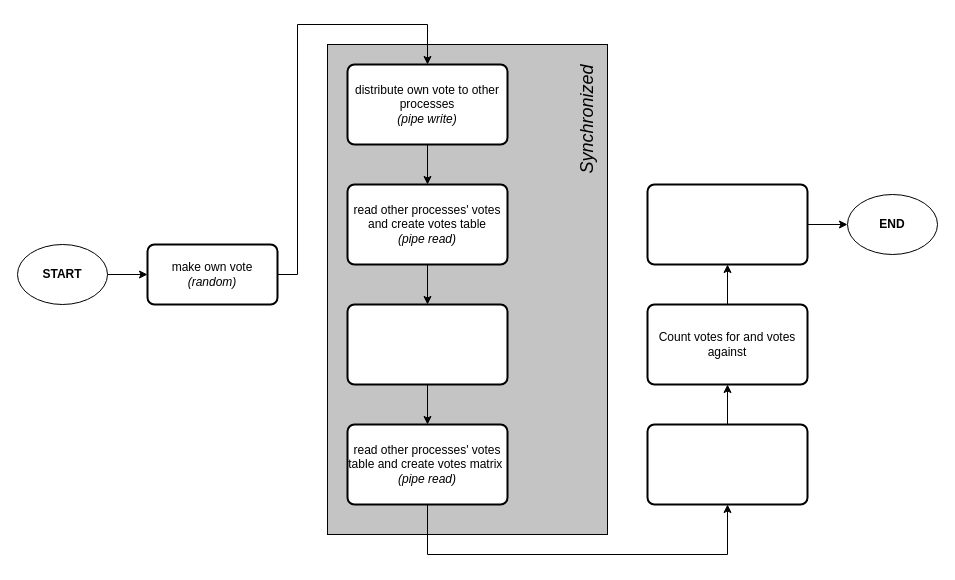
Image size: 955x580. Some labels were removed from this diagram. Here are the shapes that lost their labels. From the top down, the centre of each, then its label:
point (727, 224): make final decision
point (427, 344): distribute created votes table to other processes (pipe write)
point (727, 464): analyze columns in matrix to determine if checking component is malfunctioned
